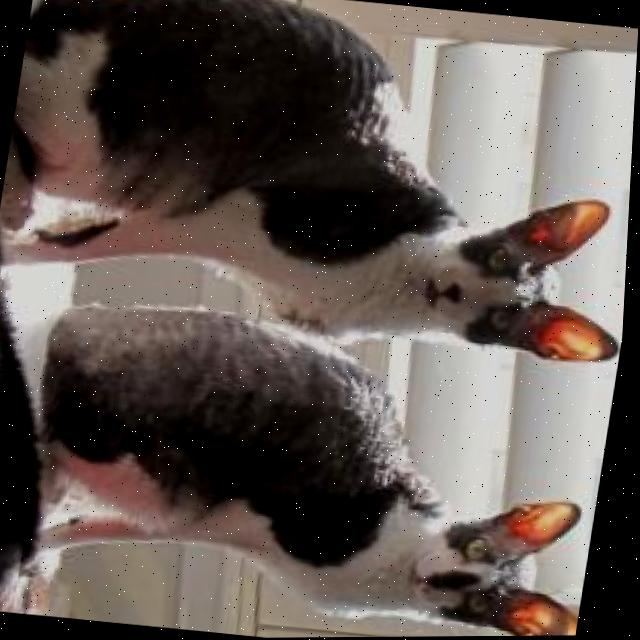Cornish Rex: (0, 0, 640, 382), (5, 286, 626, 640)
